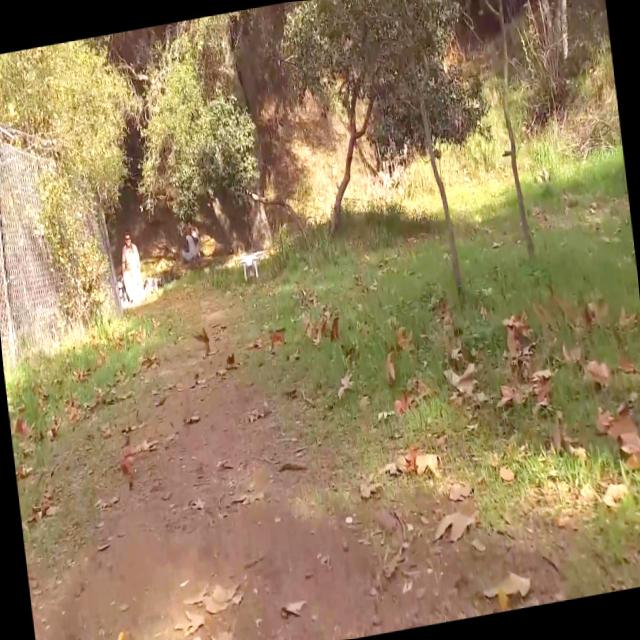drone: (232, 246, 270, 282)
